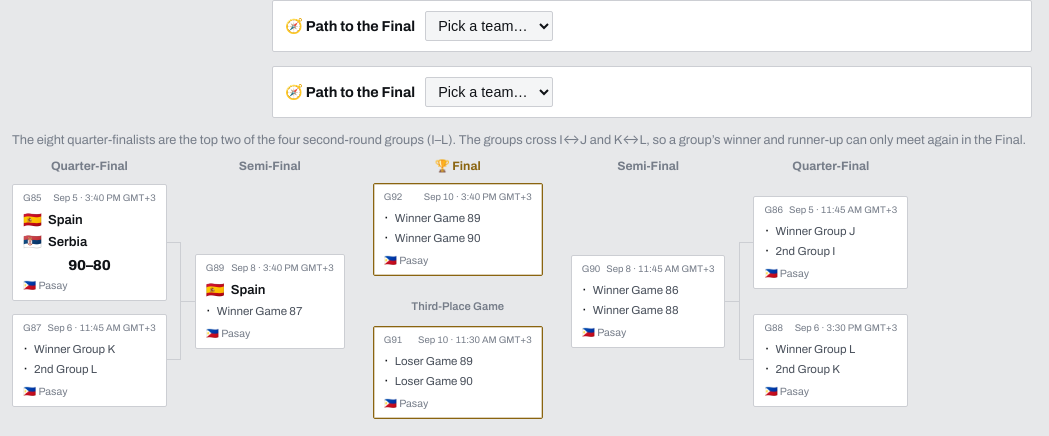
Test: Bracket interaction › highlights a traced route, and marks where the team went out
The width and height of the screenshot is (1049, 436).
Select "🇷🇸 Serbia" in the dropdown labelled "🧭 Path to the Final" at (489, 26), box 425,11 -> 553,41
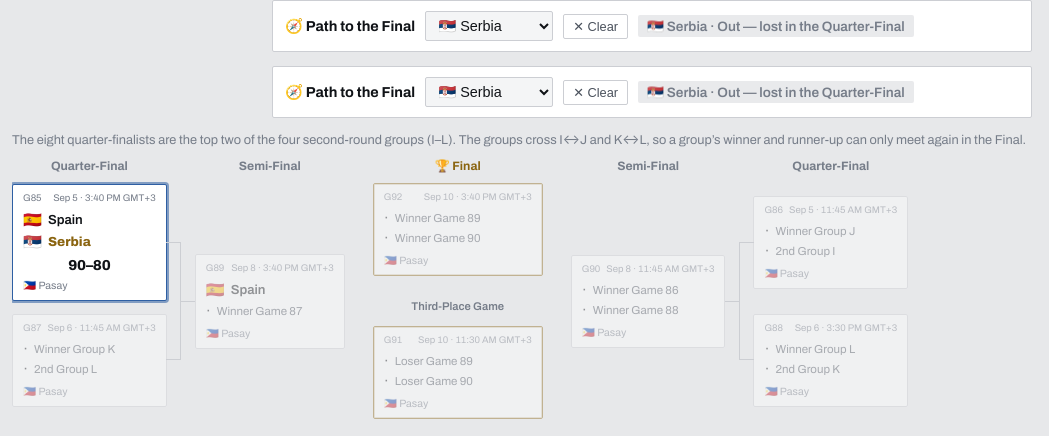
Expected: the button with class "on-path" is shown, 12,184 -> 167,300
